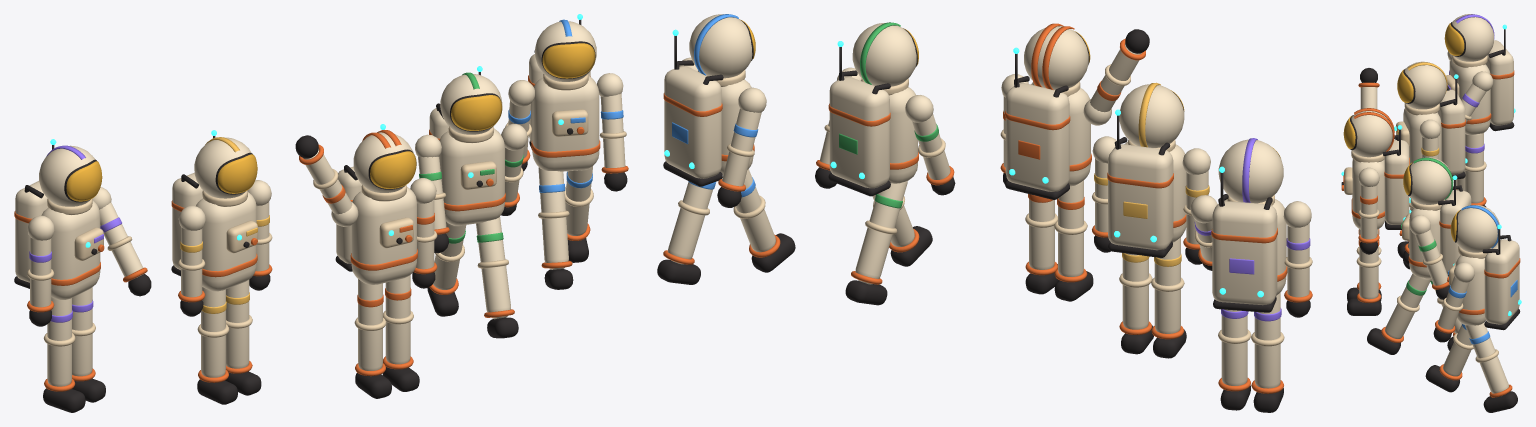
The model's file is astro-b-crew.glb.
3 views of the same model, side by side, from view 1: azimuth 30°, elevation 25°; view 2: azimuth 150°, elevation 25°; view 3: azimuth 270°, elevation 25° (orthographic). The views are drawn at different scales.
Visible parts, largest first — view 1: body, body.003, body.001, body.004, body.002, leg_l.002, leg_r.001, leg_r, leg_r.004, leg_r.003, leg_l, leg_l.001 (+13 smaller); view 2: body.002, body, body.001, body.004, body.003, leg_r.002, leg_r, leg_l.004, leg_r.001, leg_r.003, arm_r.004, leg_l.001 (+11 smaller); view 3: body.004, body.003, body, body.001, body.002, leg_l.004, leg_l.002, leg_l, arm_l, arm_l.004, arm_l.002, leg_r.004 (+6 smaller).
Part boxes in pixels (x1,y1,x2,y2): body: (335, 124, 417, 284); body.003: (14, 139, 104, 299); body.001: (171, 130, 257, 291); body.004: (528, 14, 600, 171); body.002: (429, 66, 505, 225); leg_l.002: (476, 217, 518, 338); leg_r.001: (197, 287, 237, 404); leg_r: (354, 279, 391, 398); leg_r.004: (538, 167, 573, 289); leg_r.003: (43, 297, 85, 412); leg_l: (382, 275, 419, 391); leg_l.001: (225, 280, 261, 395); body.002: (828, 22, 918, 196); body: (1005, 23, 1091, 199); body.001: (1107, 82, 1186, 257); body.004: (663, 14, 755, 186); body.003: (1211, 138, 1287, 312); leg_r.002: (845, 181, 907, 305); leg_r: (1054, 180, 1093, 301); leg_l.004: (657, 181, 715, 284); leg_r.001: (1151, 237, 1186, 358); leg_r.003: (1251, 292, 1284, 412); arm_r.004: (717, 87, 766, 207); leg_l.001: (1119, 253, 1153, 354); body.004: (1447, 205, 1521, 330); body.003: (1444, 14, 1515, 135); body: (1341, 108, 1411, 229); body.001: (1394, 61, 1467, 179); body.002: (1399, 157, 1471, 278); leg_l.004: (1465, 322, 1517, 412); leg_l.002: (1367, 273, 1431, 354); leg_l: (1347, 229, 1381, 315); arm_l: (1358, 167, 1379, 254); arm_l.004: (1433, 262, 1474, 342); arm_l.002: (1410, 215, 1449, 299); leg_r.004: (1425, 323, 1473, 392).
Bounding box in the file's own units: 4.54 × 1.96 × 1.51.
